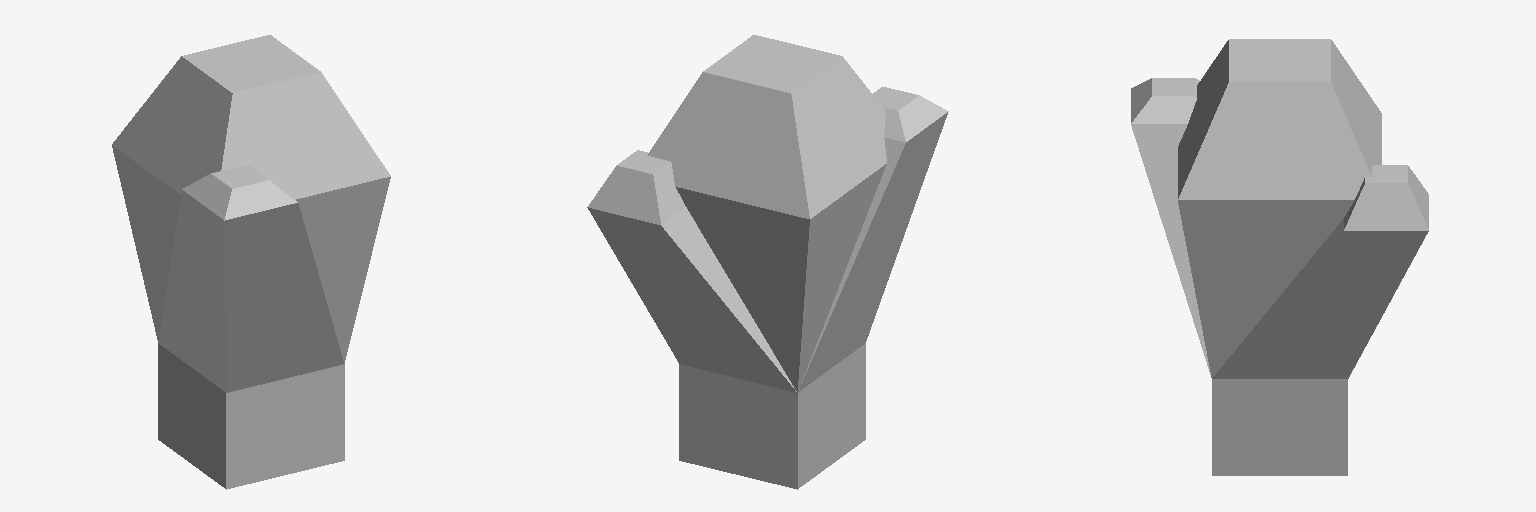
Rendered from Greater.obj.
3 renders of one model, left to right at view 1: azimuth 30°, elevation 25°; view 2: azimuth 150°, elevation 25°; view 3: azimuth 270°, elevation 25°, orthographic.
Visible parts, largest first — view 1: Cube_Cube.001; view 2: Cube_Cube.001; view 3: Cube_Cube.001.
Part boxes in pixels (x1,y1,x2,y2): Cube_Cube.001: (112, 35, 390, 489); Cube_Cube.001: (587, 35, 948, 489); Cube_Cube.001: (1131, 39, 1428, 475).
Bounding box in the file's own units: 1.15 × 2 × 1.4.